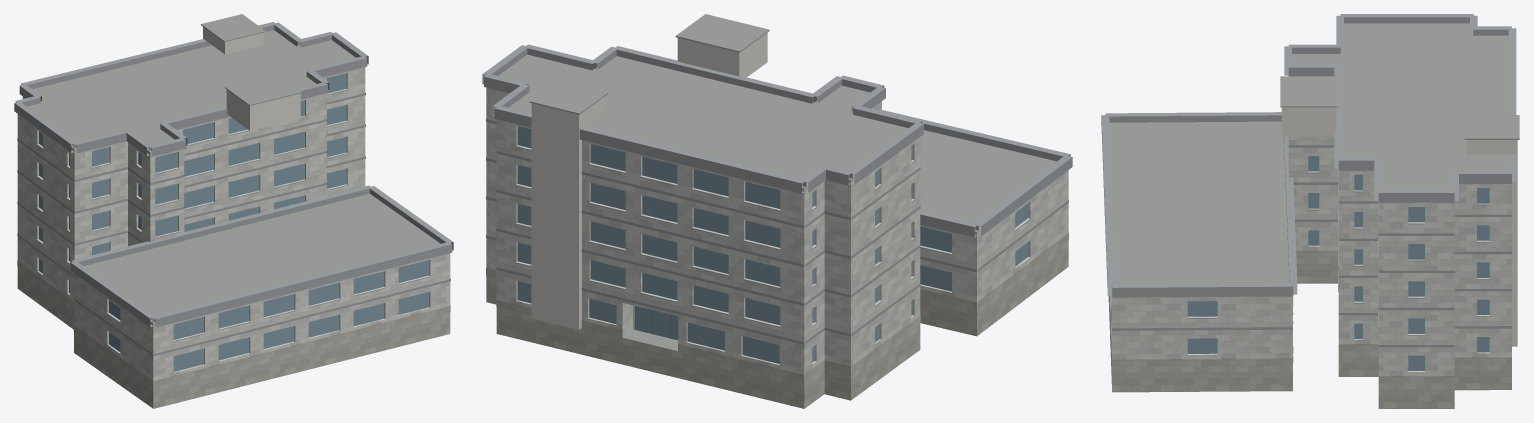
The picture shows the model from 3 angles, left to right: view 1: azimuth 30°, elevation 25°; view 2: azimuth 150°, elevation 25°; view 3: azimuth 270°, elevation 25°; orthographic projection. The views are drawn at different scales.
Visible parts, largest first — view 1: geoCentrifugeW16__wall, geoCentrifugeW16__roof, geoCentrifugeW16__trim, geoCentrifugeW16__glass, geoCentrifugeW16__base, geoCentrifugeW16__wall2; view 2: geoCentrifugeW16__wall, geoCentrifugeW16__roof, geoCentrifugeW16__trim, geoCentrifugeW16__base, geoCentrifugeW16__glass, geoCentrifugeW16__wall2; view 3: geoCentrifugeW16__roof, geoCentrifugeW16__wall, geoCentrifugeW16__trim, geoCentrifugeW16__base, geoCentrifugeW16__glass, geoCentrifugeW16__wall2.
Part boxes in pixels (x1,y1,x2,y2): geoCentrifugeW16__wall: [17, 67, 450, 386]; geoCentrifugeW16__roof: [27, 14, 440, 323]; geoCentrifugeW16__trim: [14, 22, 453, 355]; geoCentrifugeW16__glass: [39, 73, 429, 371]; geoCentrifugeW16__base: [17, 260, 450, 408]; geoCentrifugeW16__wall2: [203, 27, 300, 130]; geoCentrifugeW16__wall: [486, 87, 1068, 381]; geoCentrifugeW16__roof: [498, 14, 1056, 350]; geoCentrifugeW16__trim: [482, 30, 1072, 344]; geoCentrifugeW16__base: [486, 233, 1068, 408]; geoCentrifugeW16__glass: [517, 126, 1028, 363]; geoCentrifugeW16__wall2: [531, 33, 767, 329]; geoCentrifugeW16__roof: [1109, 23, 1519, 291]; geoCentrifugeW16__wall: [1109, 136, 1511, 375]; geoCentrifugeW16__trim: [1101, 14, 1519, 347]; geoCentrifugeW16__base: [1108, 250, 1511, 408]; geoCentrifugeW16__glass: [1187, 156, 1489, 370]; geoCentrifugeW16__wall2: [1281, 107, 1517, 346].
Size of the model in its own units: 39.95 by 23.5 by 36.68.
Materials: 8 (2 with a texture image).
